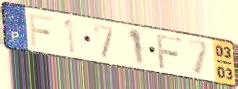1: (126, 28, 147, 68), (63, 19, 76, 55)
7: (187, 38, 210, 77), (92, 23, 115, 61)
F: (155, 33, 184, 71), (28, 12, 55, 49)
